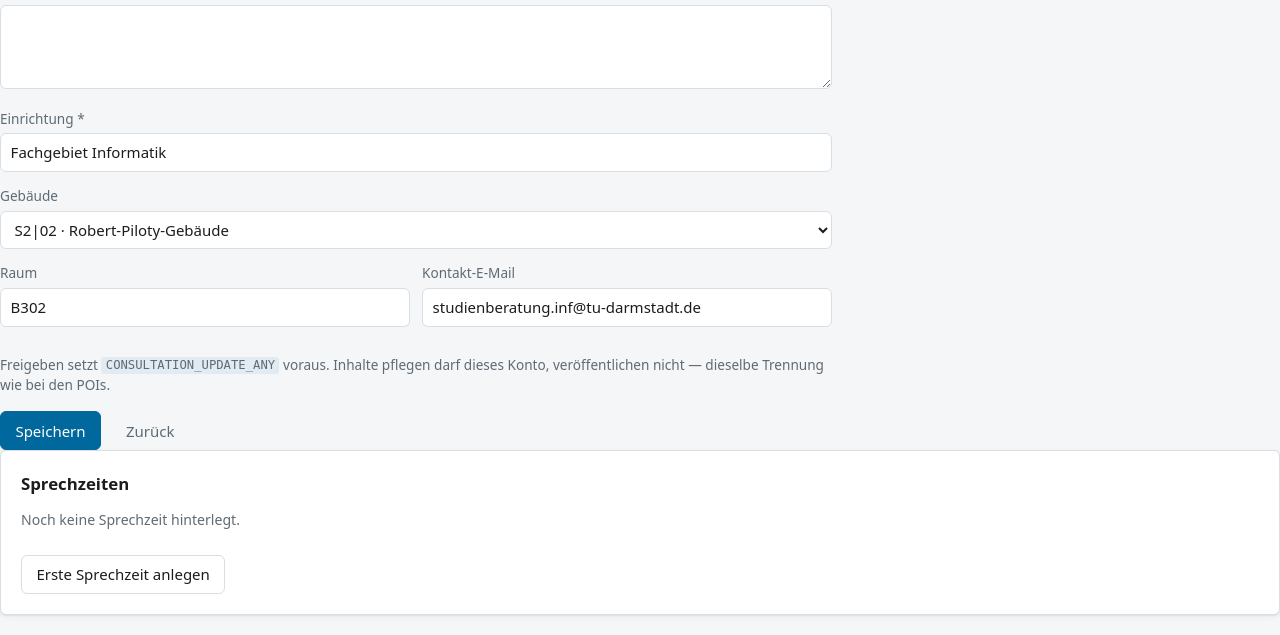
Test: ohne Wochentag wird nicht abgeschickt, sondern das Feld markiert
This screenshot has width=1280, height=635.
(page scrolled)
Click the button "Erste Sprechzeit anlegen". click: coordinates (123, 575)
box: [21,555,225,594]
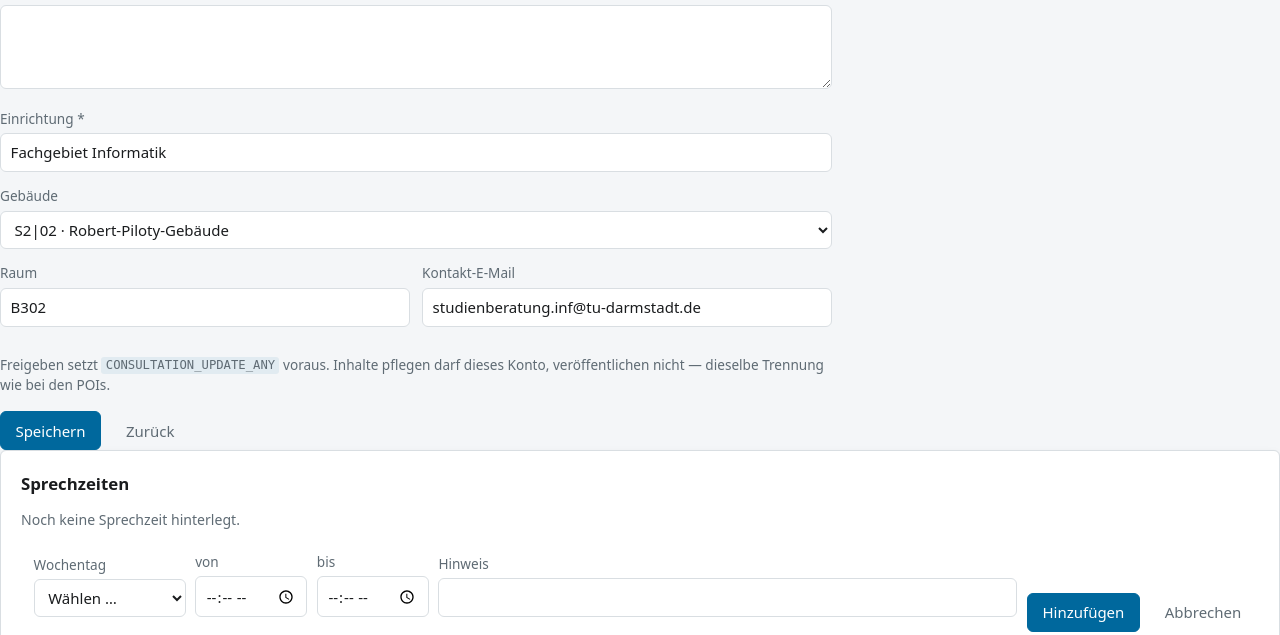
Click the button "Hinzufügen". click: coordinates (1083, 612)
box: [1027,593,1140,632]
(page scrolled)
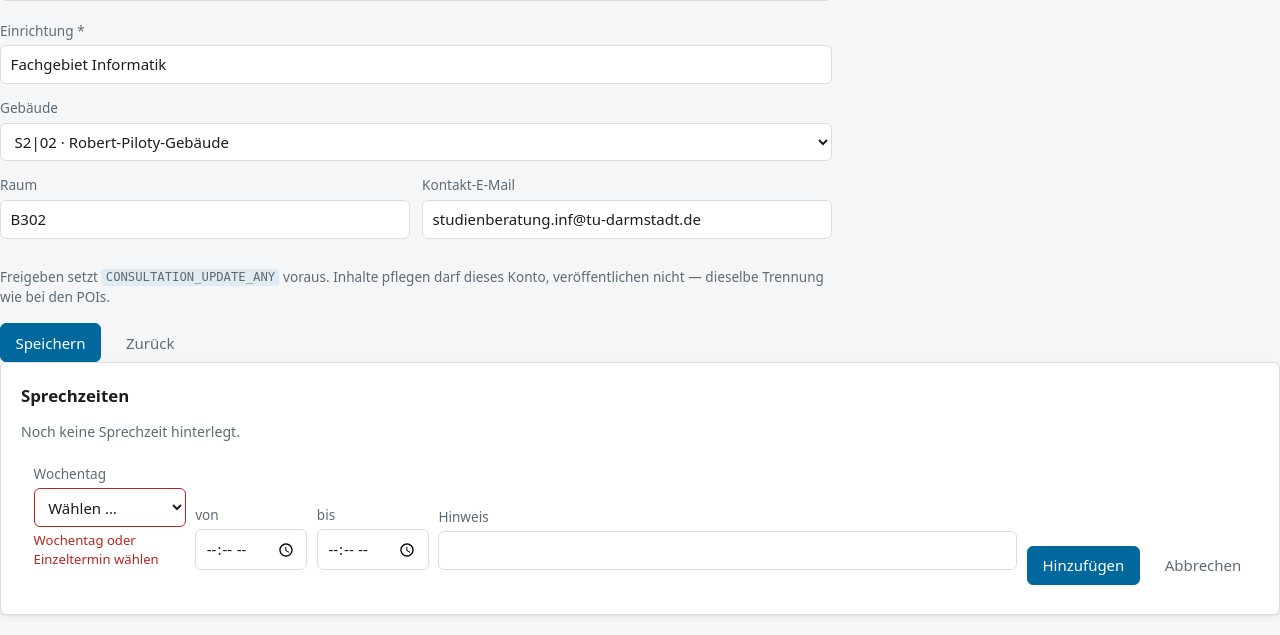
expect the text "Wochentag oder Einzeltermin wählen" is shown: met, box [34,531,159,568]
